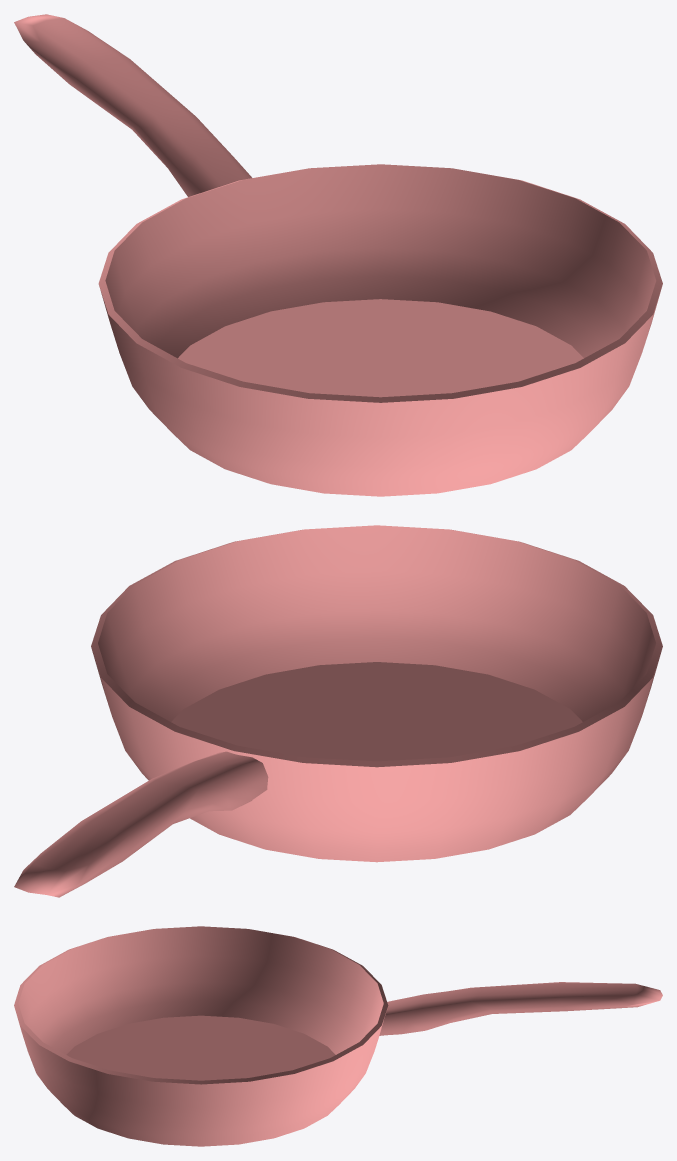
The model's file is TFYK_deep_pan_high_poly.FBX.
3 renders of one model, top to bottom at view 1: azimuth 30°, elevation 25°; view 2: azimuth 150°, elevation 25°; view 3: azimuth 270°, elevation 25°, orthographic. The views are drawn at different scales.
Visible parts, largest first — view 1: TFYK_deep_pan_high_poly; view 2: TFYK_deep_pan_high_poly; view 3: TFYK_deep_pan_high_poly.
Part boxes in pixels (x1,y1,x2,y2): TFYK_deep_pan_high_poly: [14, 14, 662, 496]; TFYK_deep_pan_high_poly: [14, 525, 662, 897]; TFYK_deep_pan_high_poly: [14, 926, 662, 1146].
Bounding box in the file's own units: 0.1924 × 0.0542 × 0.3336.
